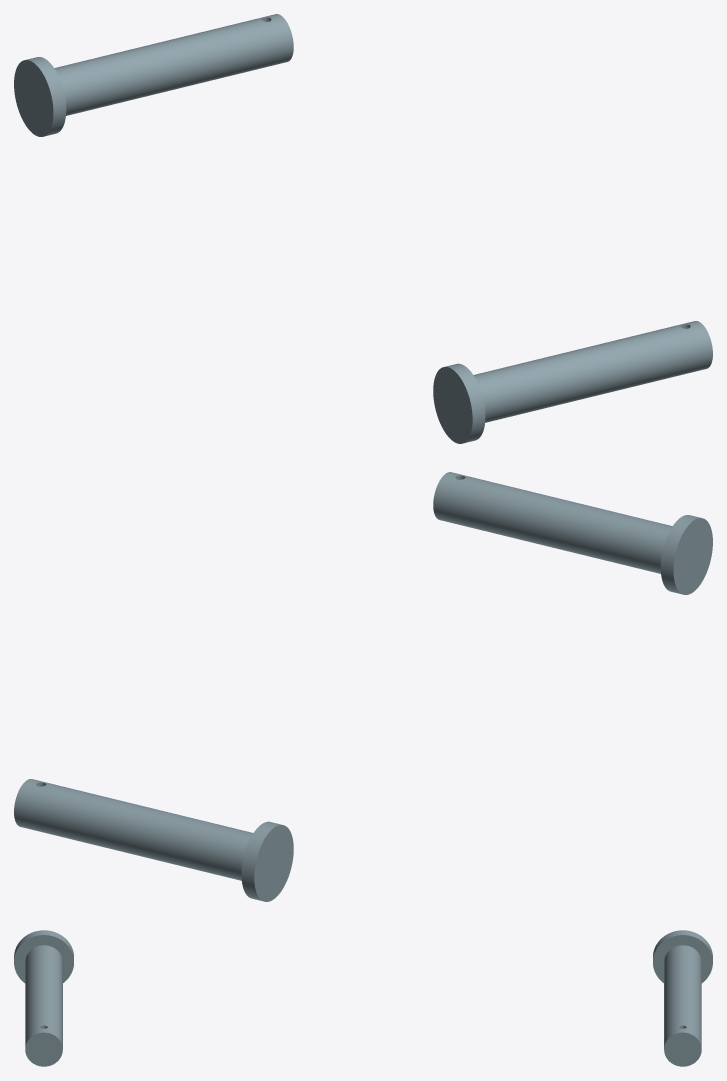
Rendered from upright_pins_C02_R01.glb.
3 renders of one model, top to bottom at view 1: azimuth 30°, elevation 25°; view 2: azimuth 150°, elevation 25°; view 3: azimuth 270°, elevation 25°, orthographic. The views are drawn at different scales.
Visible parts, largest first — view 1: outer_lower_hinge_pin, outer_upper_hinge_pin; view 2: outer_upper_hinge_pin, outer_lower_hinge_pin; view 3: outer_upper_hinge_pin, outer_lower_hinge_pin.
Boxes of the visible parts, x1,y1,x2,y2 form: outer_lower_hinge_pin: (14,14,293,136); outer_upper_hinge_pin: (433,321,712,443); outer_upper_hinge_pin: (433,472,712,594); outer_lower_hinge_pin: (14,779,293,901); outer_upper_hinge_pin: (14,930,73,1066); outer_lower_hinge_pin: (653,930,712,1066).
Size of the model in its own units: 0.116 by 0.032 by 0.372.
